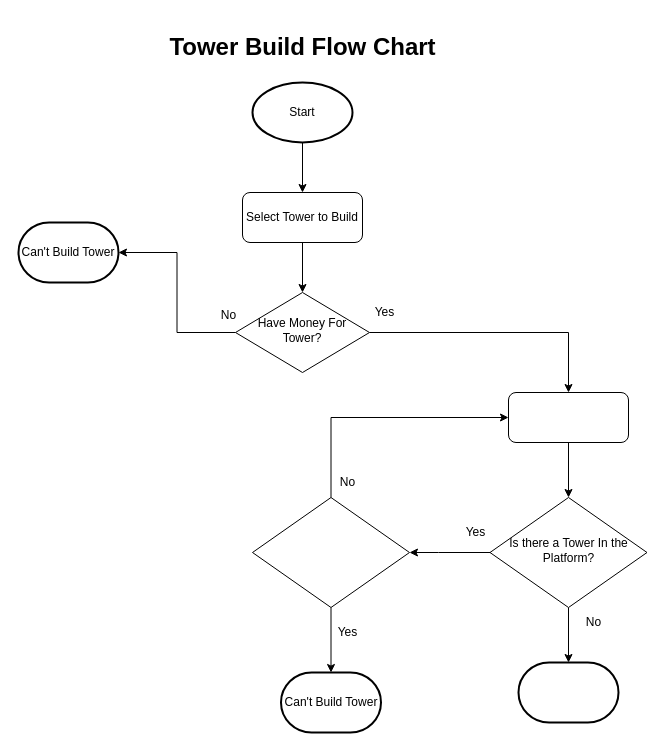
This 664x751 diagram has some shape labels left out. The shapes that lost their labels are listed below. From the top down, each one's box as (x1, y1, x2, y2) in pixels, then its label:
(508, 392, 628, 442): Select Platform to place the Tower
(252, 496, 410, 608): Are all Platforms with Towers?
(517, 661, 619, 723): Build Tower
